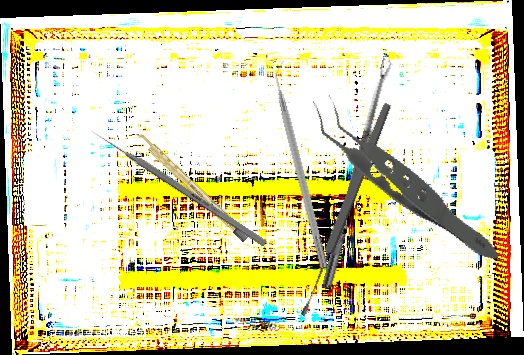Chopper: (268, 59, 340, 269)
Pusher: (89, 127, 268, 247)
Scalpel Handle: (133, 129, 251, 243)
Surgical Spoon: (296, 101, 394, 318), (321, 58, 394, 291)
Tissue Forceps: (309, 55, 501, 300)
